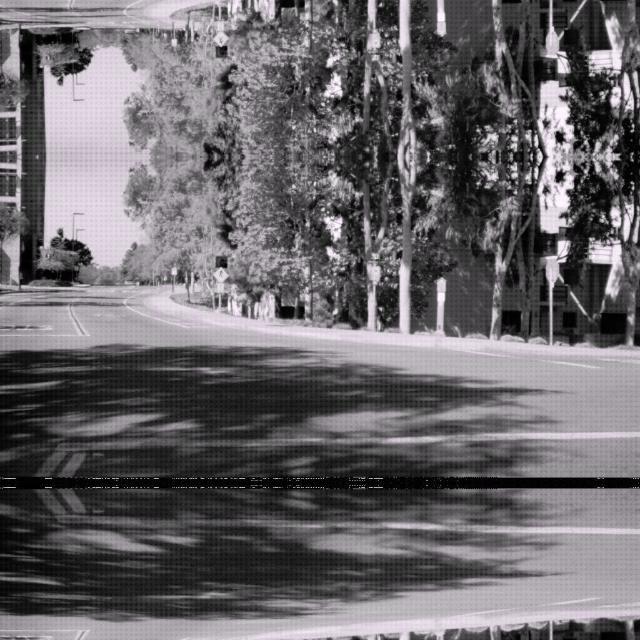pedestrianCrossing: (211, 29, 229, 46), (211, 266, 229, 282)
